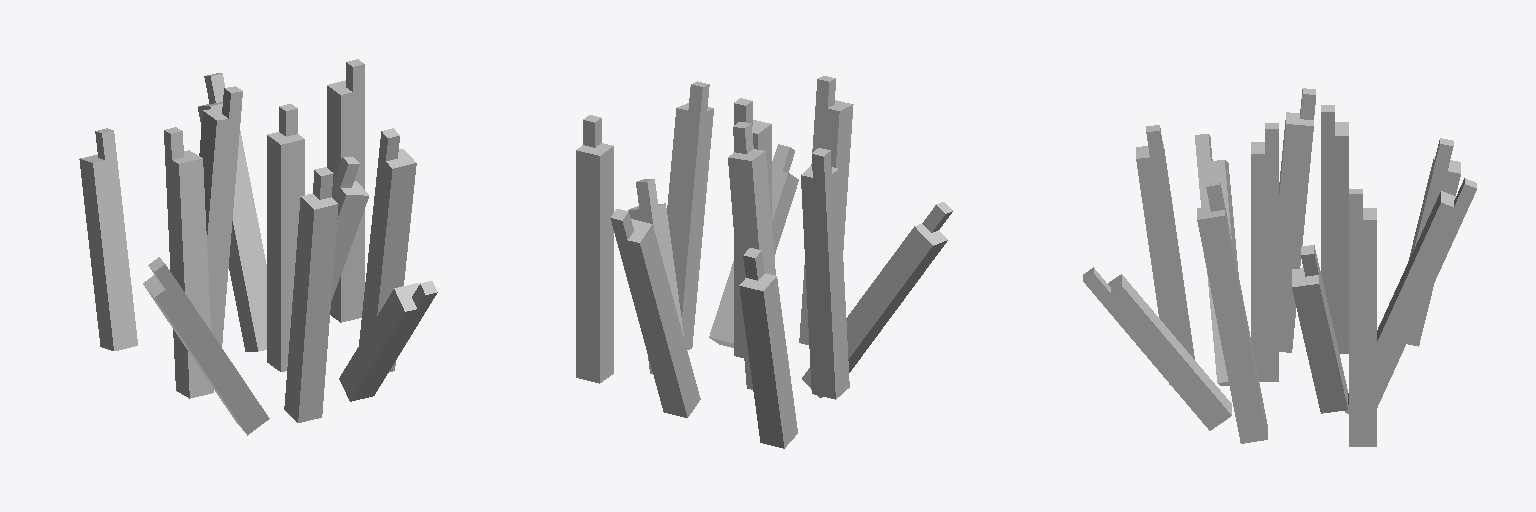
The model's file is punji_sticks.obj.
The picture shows the model from 3 angles: view 1: azimuth 30°, elevation 25°; view 2: azimuth 150°, elevation 25°; view 3: azimuth 270°, elevation 25°; orthographic projection.
Parts seen in each view (by area): view 1: spikes.013; view 2: spikes.013; view 3: spikes.013.
Part boxes in pixels (left/top/right/bottom): spikes.013: left=79, top=59, right=437, bottom=435; spikes.013: left=576, top=76, right=952, bottom=448; spikes.013: left=1083, top=88, right=1476, bottom=446.
Bounding box in the file's own units: 0.9266 × 0.9178 × 1.1.